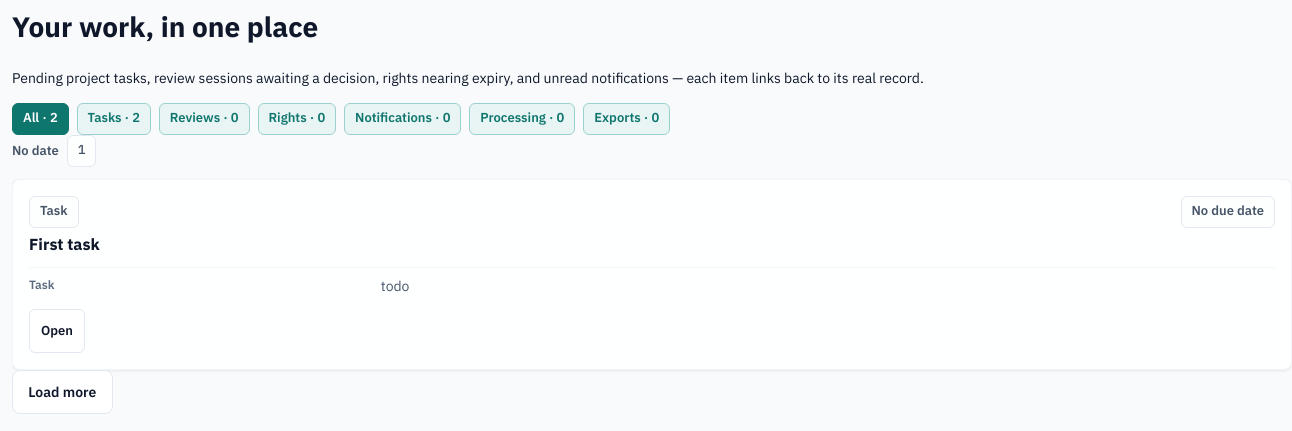
Test: load more appends the next page and stays on the current filter
Check: the heading "First task" is shown, box [29,232,100,256]
Click the button "Load more". click: {"x": 62, "y": 392}
box: [12,370,112,414]
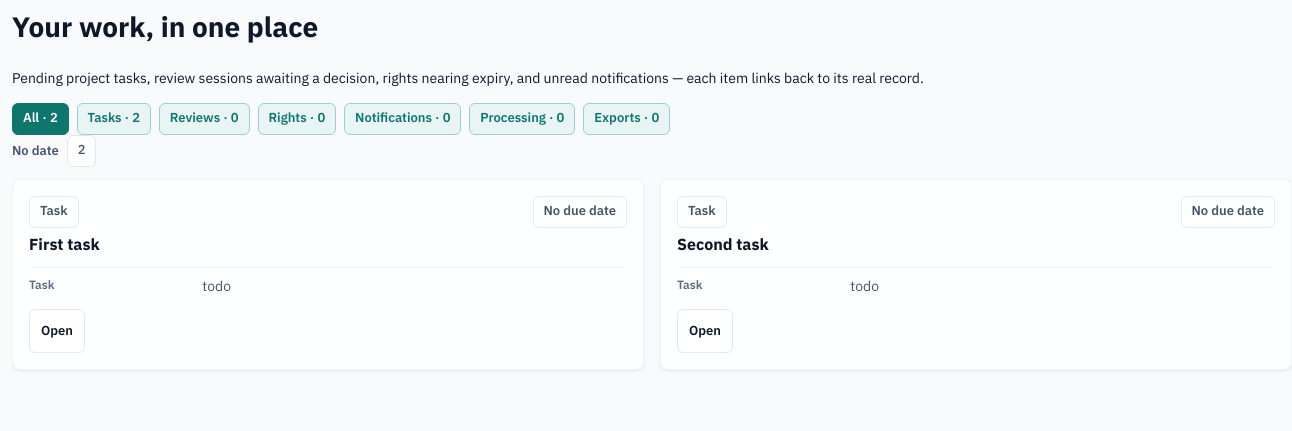
Check: the heading "First task" is shown, box [29,232,100,256]
Check: the heading "Second task" is shown, box [677,232,769,256]
